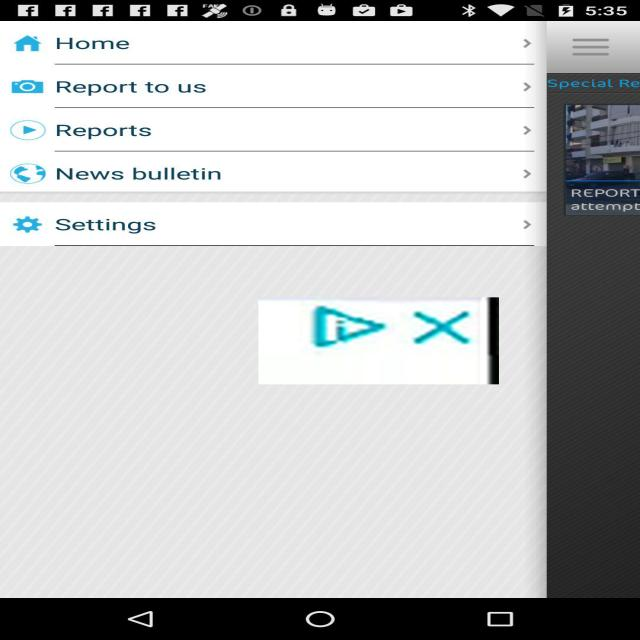sneaking: (258, 298, 499, 384)
